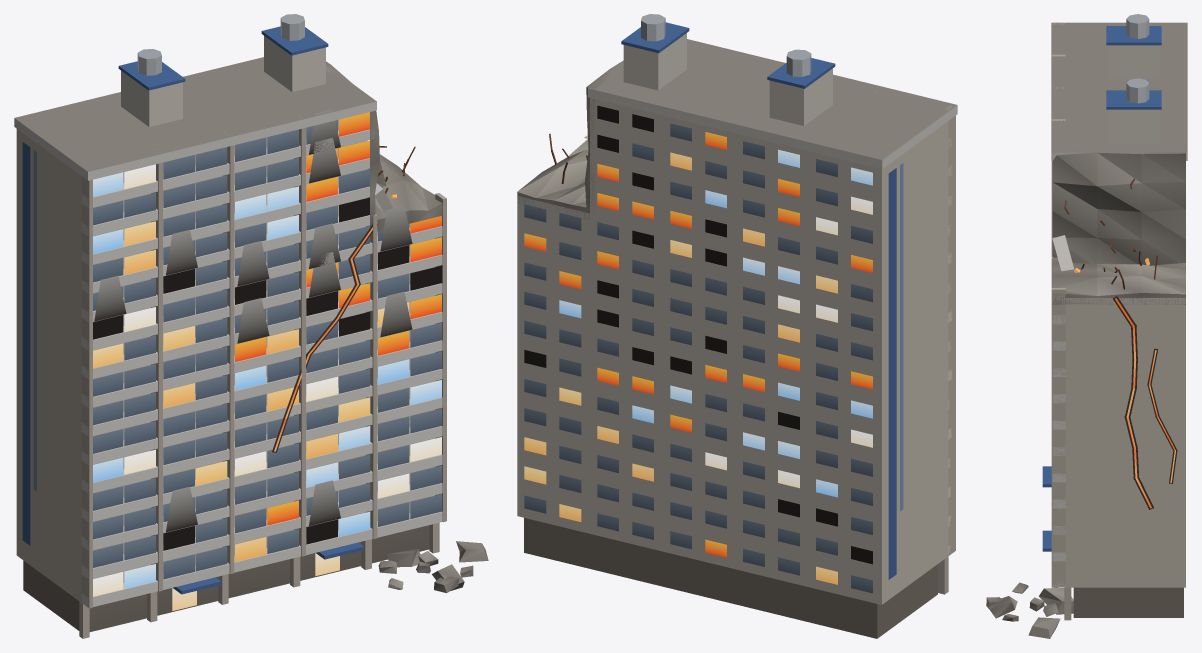
The model's file is bld_apt_A_damaged.meshopt.glb.
3 views of the same model, side by side, from view 1: azimuth 30°, elevation 25°; view 2: azimuth 150°, elevation 25°; view 3: azimuth 270°, elevation 25° (orthographic). The views are drawn at different scales.
Visible parts, largest first — view 1: bld_apt_A_damaged; view 2: bld_apt_A_damaged; view 3: bld_apt_A_damaged.
Part boxes in pixels (x1,y1,x2,y2): bld_apt_A_damaged: (14,14,488,638); bld_apt_A_damaged: (517,14,957,638); bld_apt_A_damaged: (986,14,1187,638).
Bounding box in the file's own units: 42.19 × 54.8 × 20.07.
